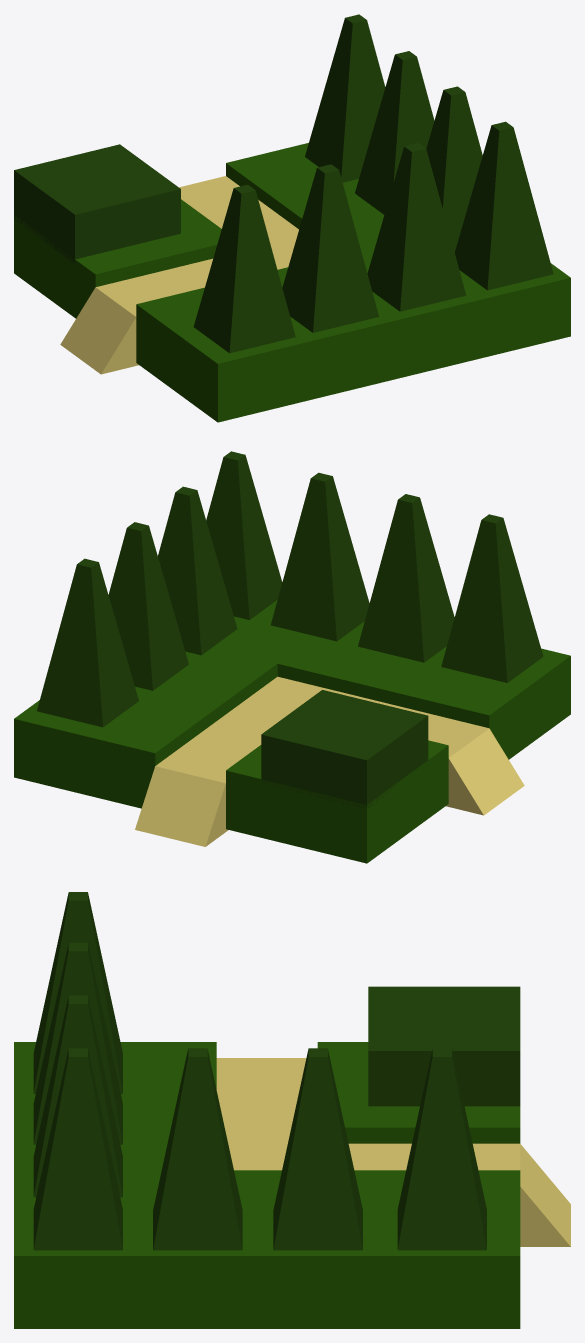
Rendered from garden_corner.fbx.
3 renders of one model, top to bottom at view 1: azimuth 30°, elevation 25°; view 2: azimuth 150°, elevation 25°; view 3: azimuth 270°, elevation 25°, orthographic. The views are drawn at different scales.
Visible parts, largest first — view 1: polySurface561; view 2: polySurface561; view 3: polySurface561.
Boxes of the visible parts, left/top/right/bottom form: polySurface561: left=14, top=14, right=570, bottom=422; polySurface561: left=14, top=451, right=570, bottom=863; polySurface561: left=14, top=892, right=570, bottom=1328.
Size of the model in its own units: 110 by 55.38 by 110.
1 material, 1 textured.
